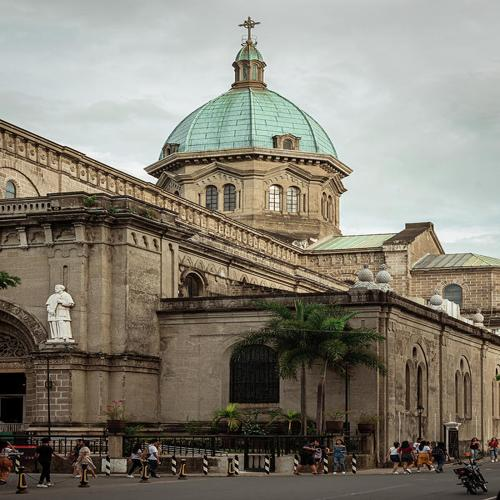Manila Cathedral Church: (12, 13, 495, 443)
